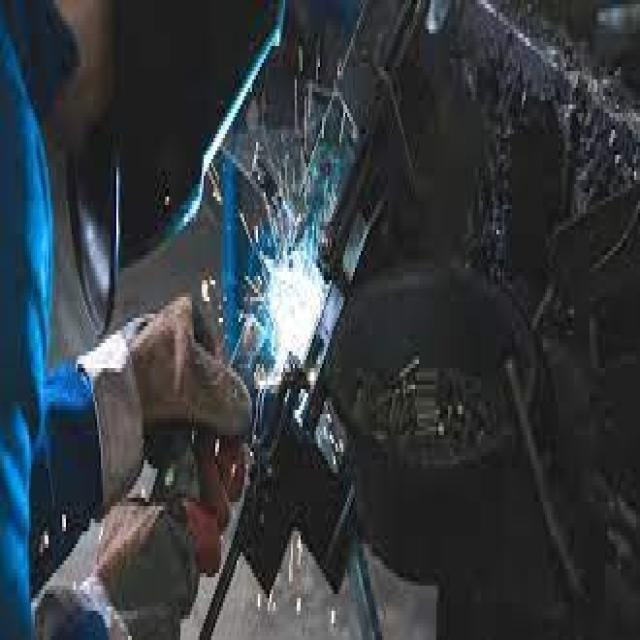welding: (268, 257, 327, 355)
